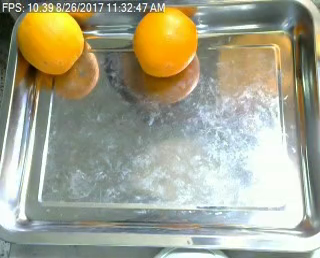Orange: (14, 5, 85, 74), (132, 6, 200, 77)
